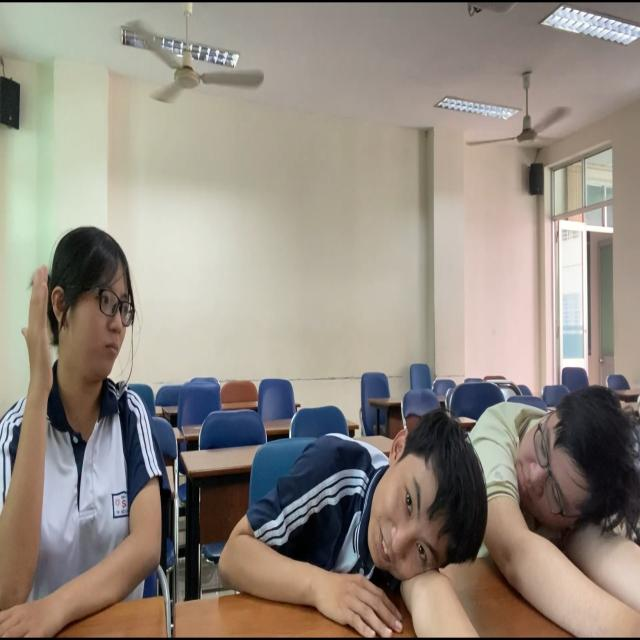raise_hand: (1, 222, 168, 640)
sleep: (214, 411, 477, 640), (472, 376, 640, 600)
